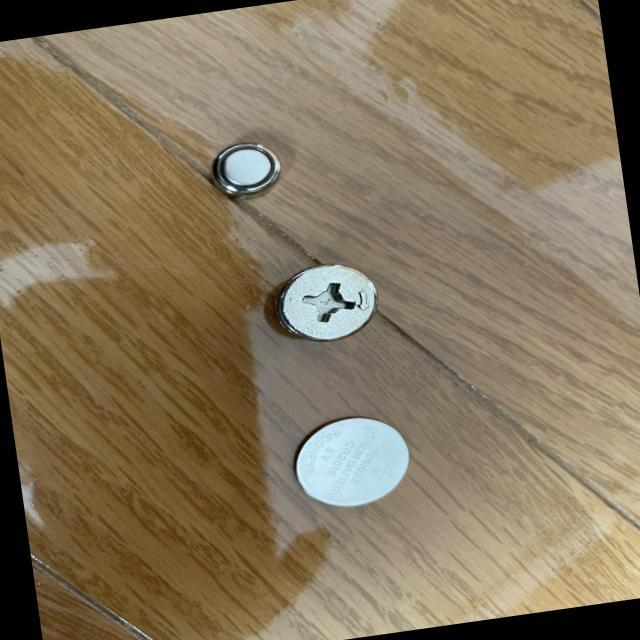COIN: (288, 412, 414, 514), (208, 140, 282, 204)
